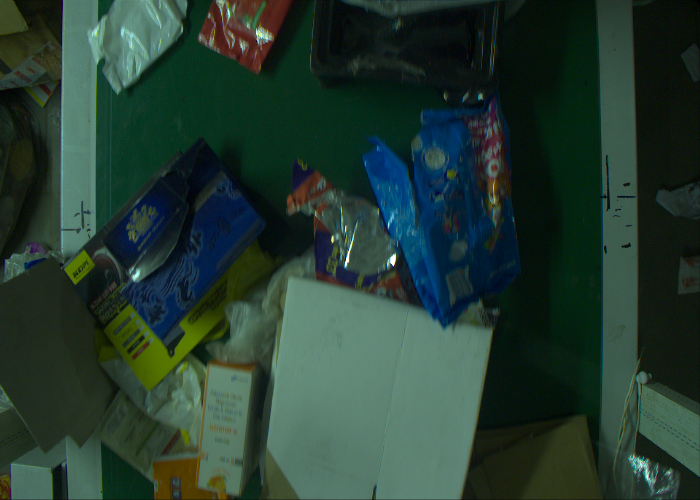cardboard: (294, 306, 480, 500), (58, 235, 265, 368), (134, 155, 254, 302), (446, 422, 598, 500), (190, 346, 256, 494)
hm_ldpe: (599, 464, 681, 500)
paper: (1, 283, 124, 418)
pp_w: (370, 116, 509, 298)
